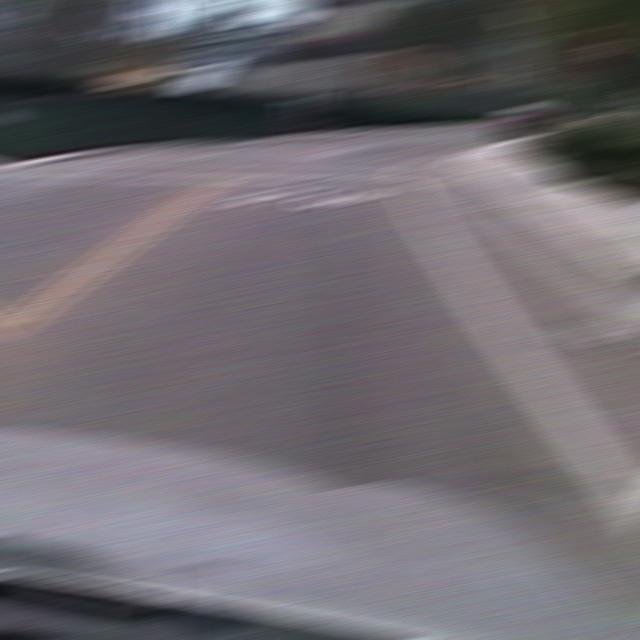stop_sign: (573, 27, 625, 73)
